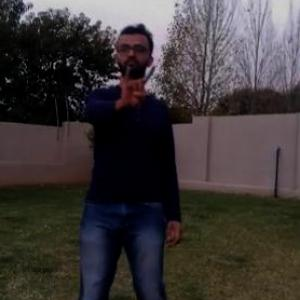takeoff-hand: (109, 56, 156, 110)
